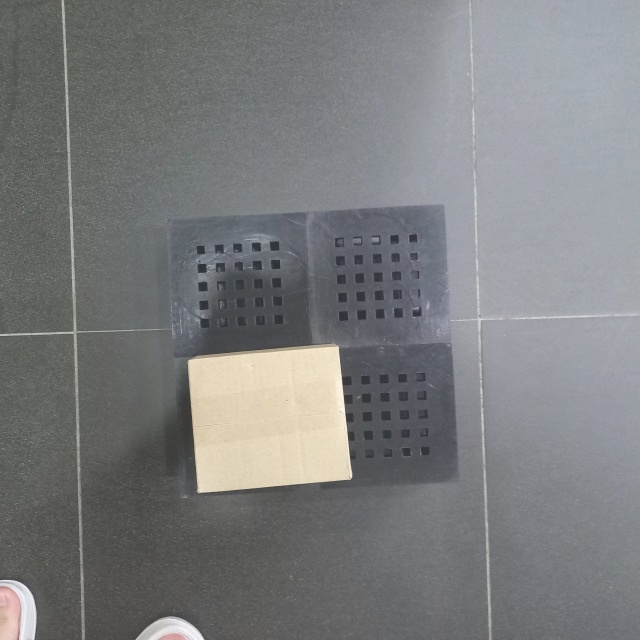box: (185, 341, 354, 497)
pallet: (163, 203, 460, 499)
